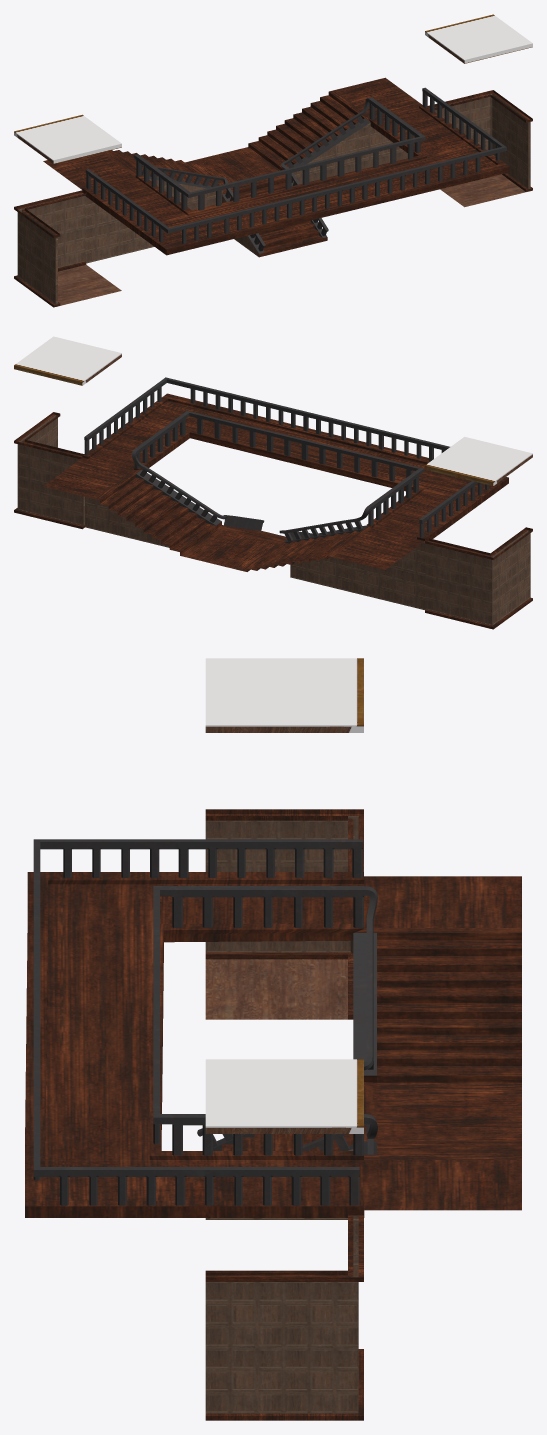
File: STAIRS_NEW.fbx
The picture shows the model from 3 angles, top to bottom: view 1: azimuth 30°, elevation 25°; view 2: azimuth 150°, elevation 25°; view 3: azimuth 270°, elevation 25°; orthographic projection. The views are drawn at different scales.
Visible parts, largest first — view 1: Floor_double4; view 2: Floor_double4; view 3: Floor_double4.
Part boxes in pixels (x1,y1,x2,y2): Floor_double4: (14, 14, 532, 307); Floor_double4: (14, 336, 532, 629); Floor_double4: (25, 658, 521, 1420).
Size of the model in its own units: 2100 by 616 by 943.
